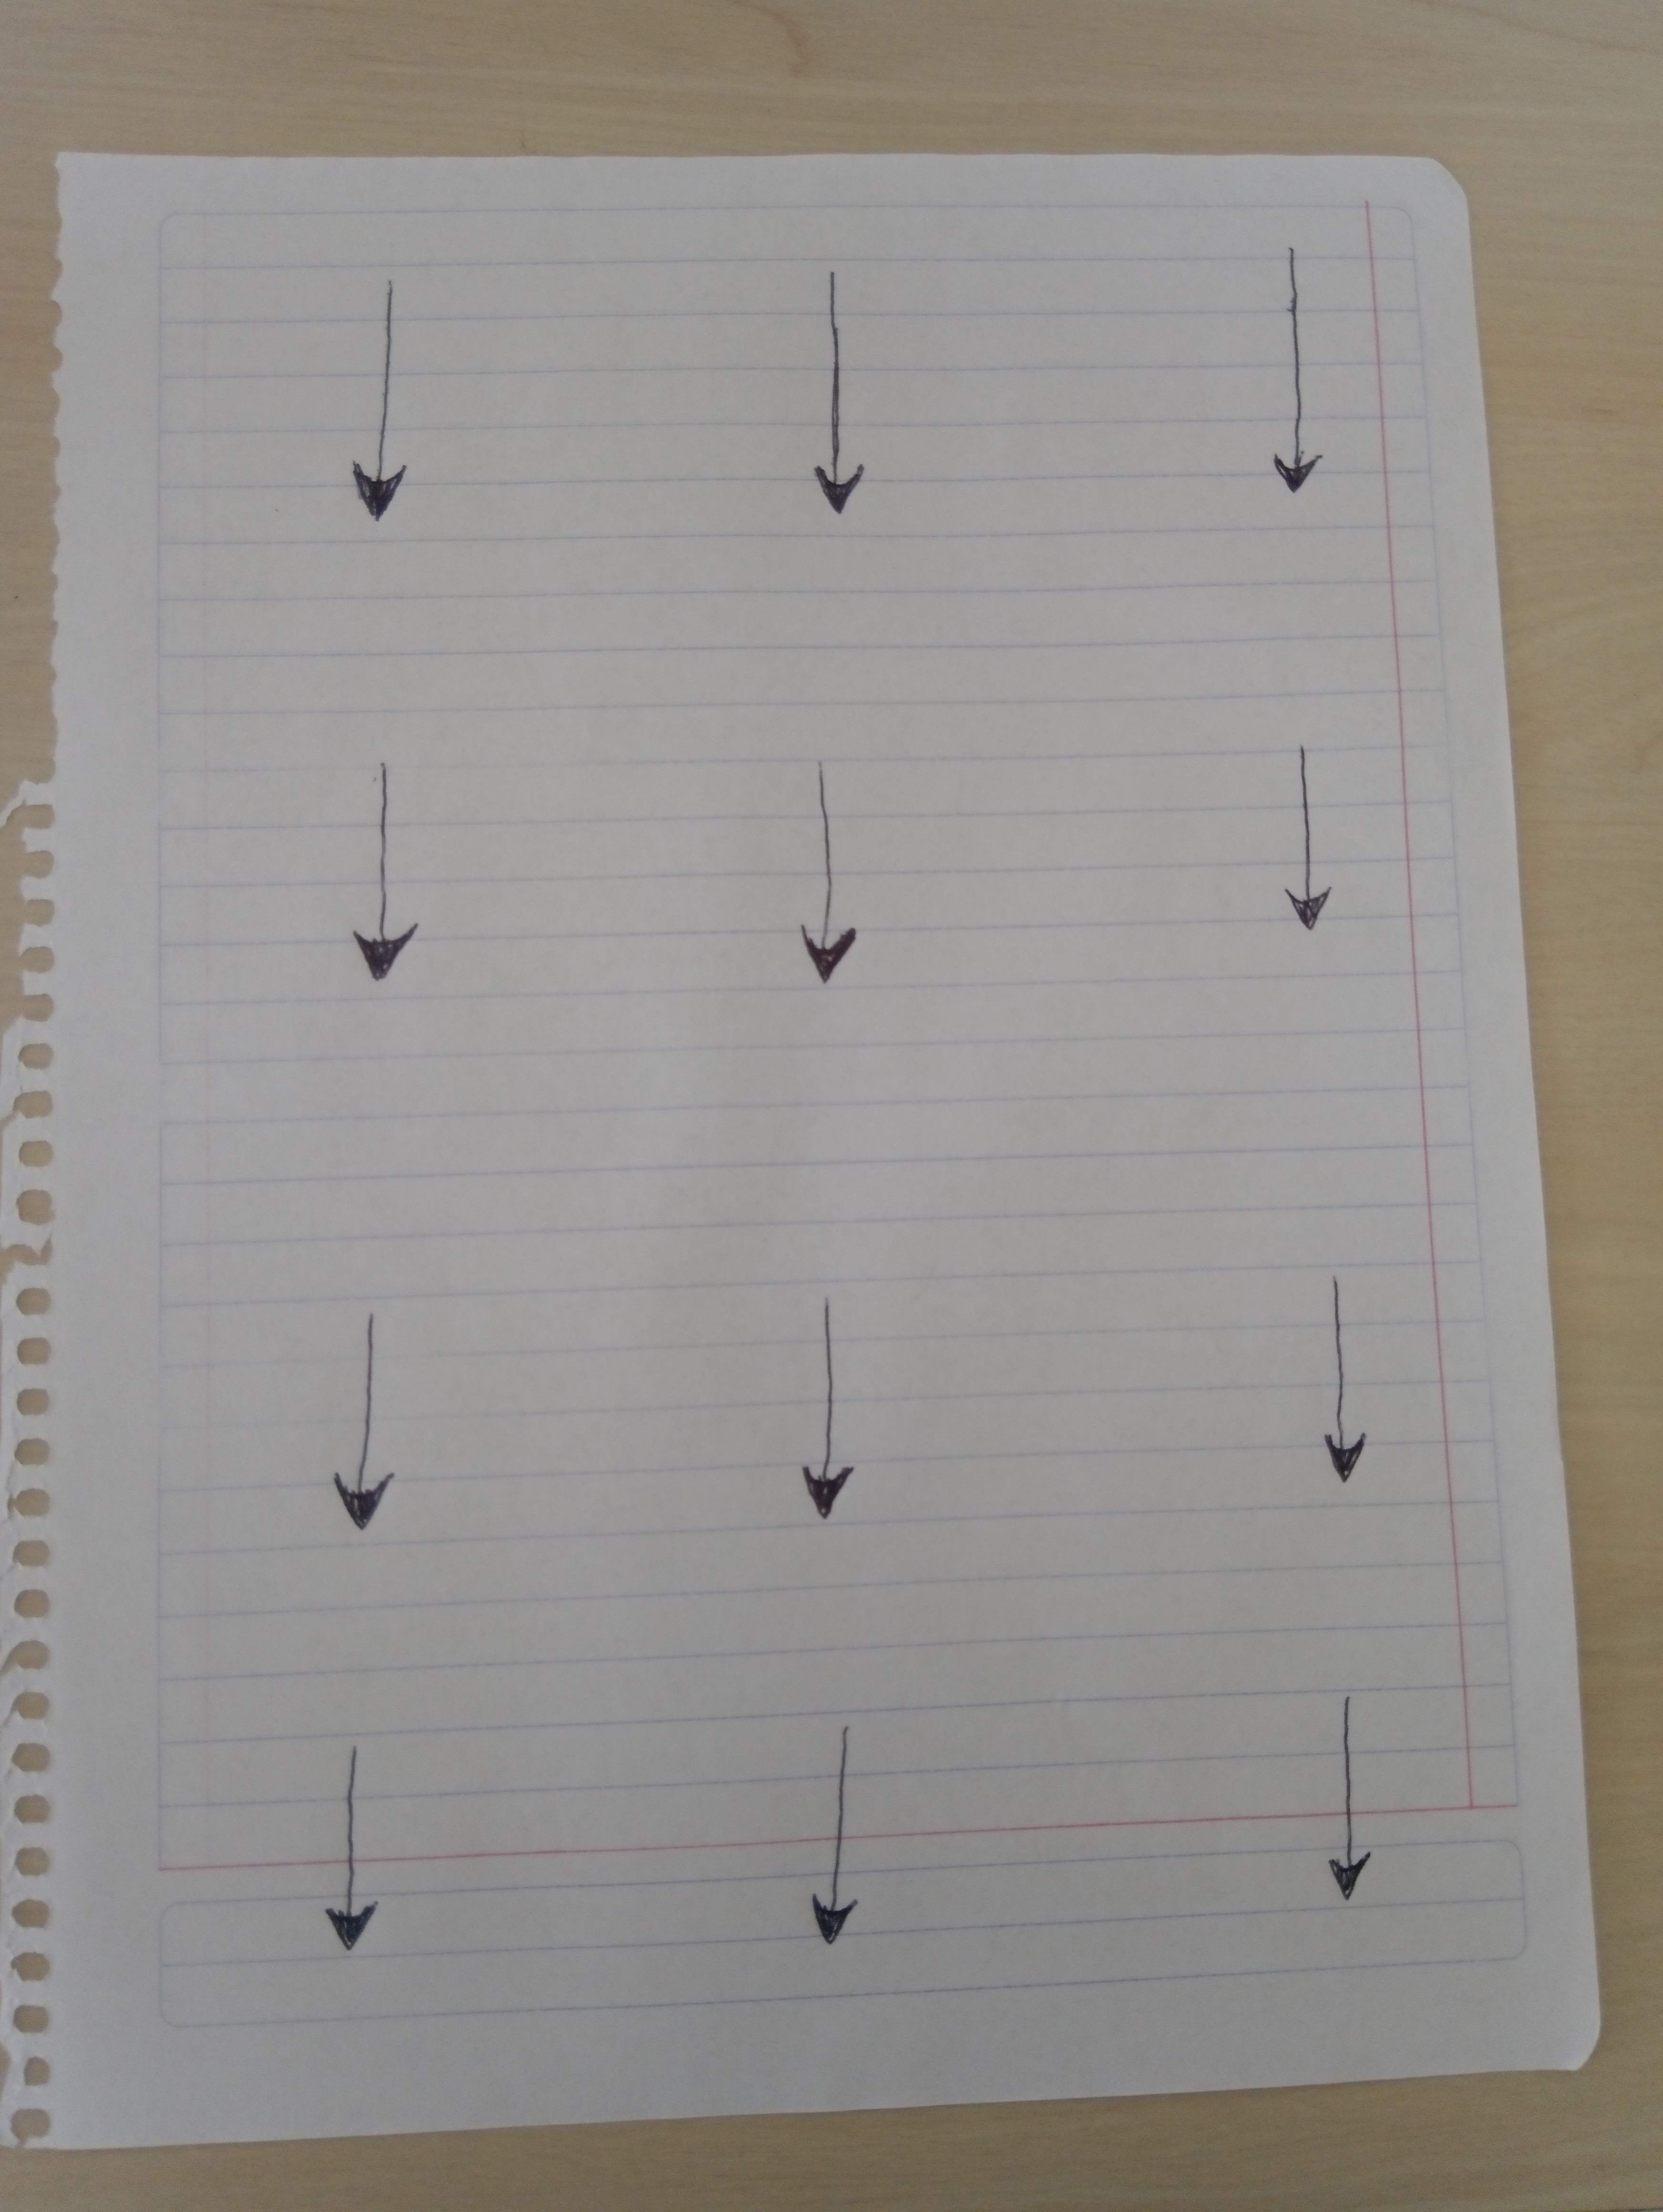arrow_line_down: (1228, 251, 1357, 526), (1275, 1686, 1415, 1926), (772, 1306, 912, 1531), (330, 260, 444, 534), (313, 754, 447, 985), (795, 1713, 907, 1985), (1293, 1274, 1418, 1514), (781, 278, 880, 538), (772, 763, 886, 985), (304, 1318, 409, 1552), (309, 1730, 409, 1968), (1258, 745, 1366, 938)
